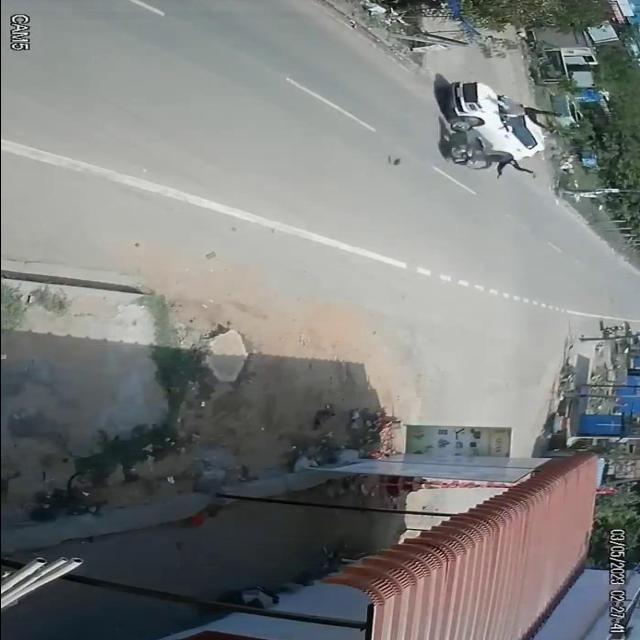accident: (426, 76, 576, 180)
